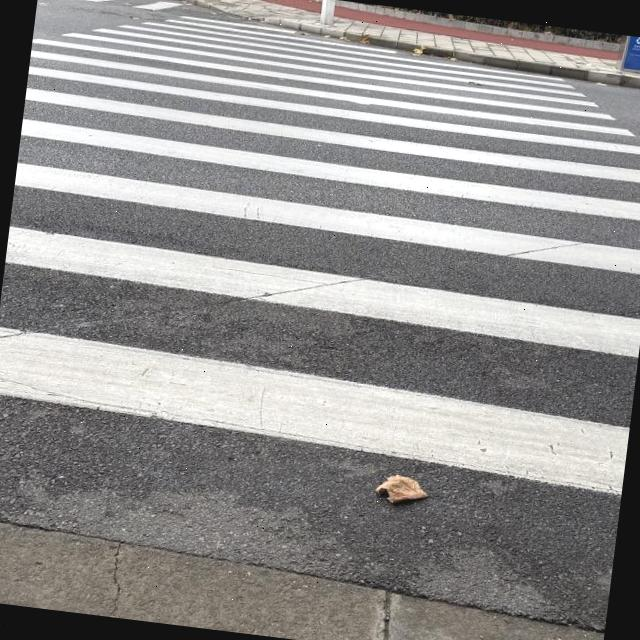curb: (255, 19, 640, 88), (182, 0, 218, 10)
